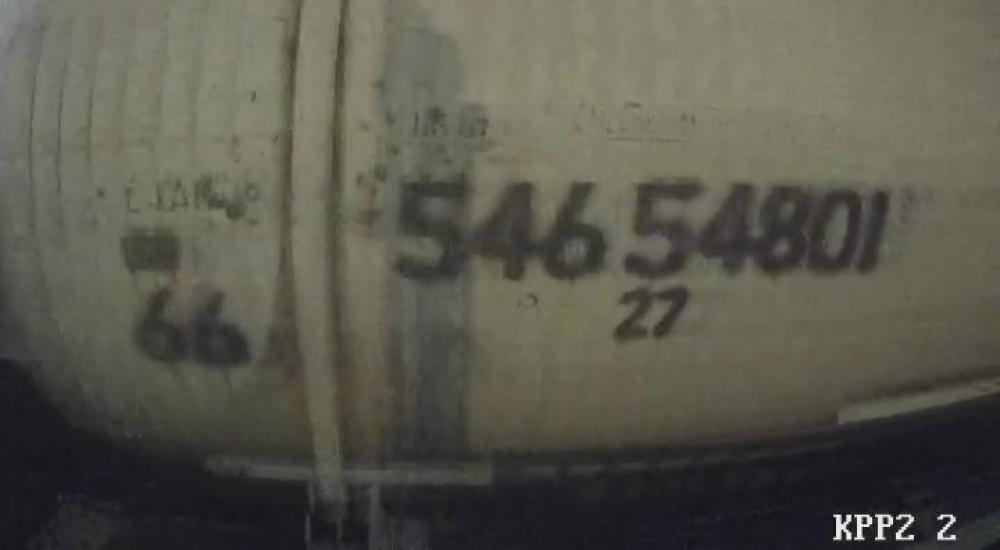Wagon-number: (386, 170, 894, 288)
